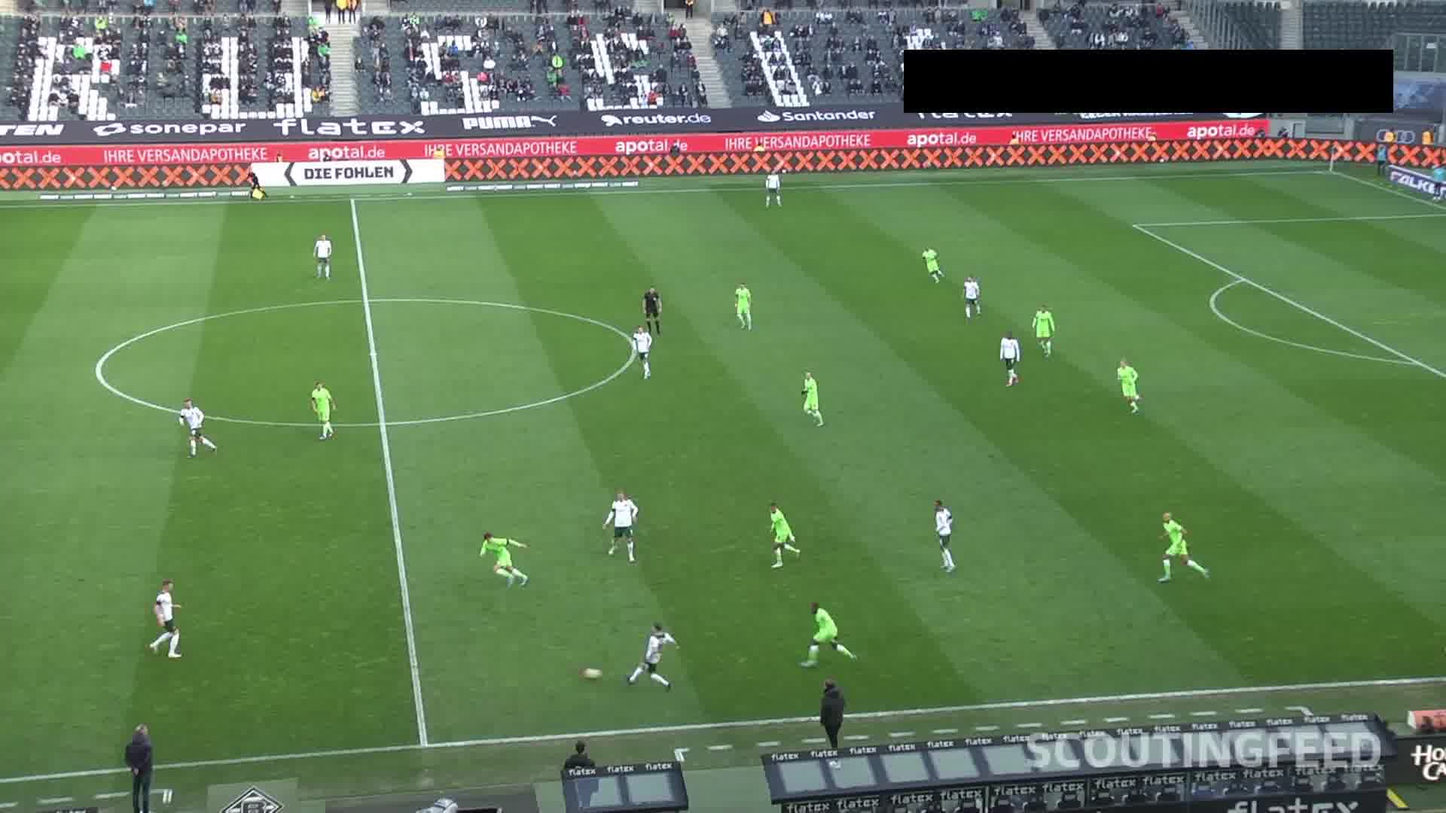ball: (581, 664, 607, 686)
coach_staff: (116, 719, 158, 813), (806, 676, 857, 750)
player: (1154, 511, 1211, 591), (801, 604, 857, 673), (475, 525, 531, 590), (924, 495, 963, 577), (149, 577, 186, 661), (1105, 351, 1151, 415), (602, 489, 643, 556), (633, 624, 674, 691), (764, 499, 801, 569), (178, 398, 214, 462), (1032, 302, 1060, 364), (801, 369, 828, 433), (311, 383, 339, 441), (996, 330, 1024, 386), (631, 324, 656, 380), (731, 279, 758, 330), (312, 230, 338, 282), (963, 273, 987, 321), (917, 245, 948, 282), (764, 166, 785, 207)
referee: (640, 288, 669, 333), (244, 170, 269, 207)
